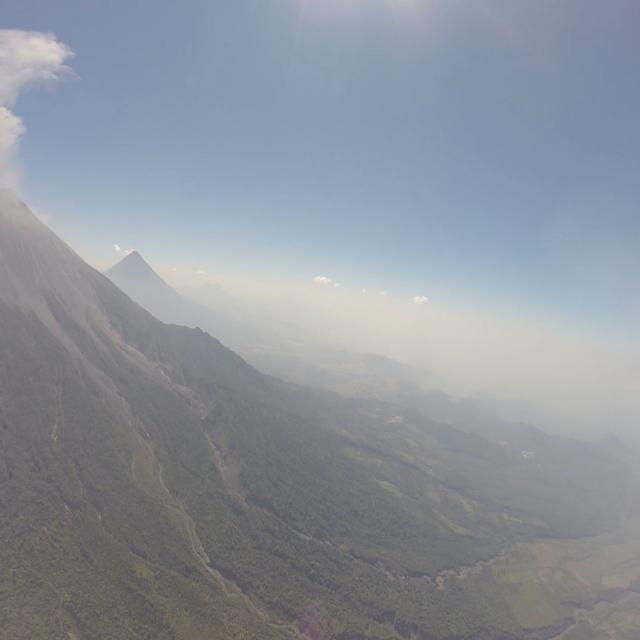Plume: (0, 25, 84, 107), (0, 101, 28, 176)
Summit: (0, 182, 37, 217)
